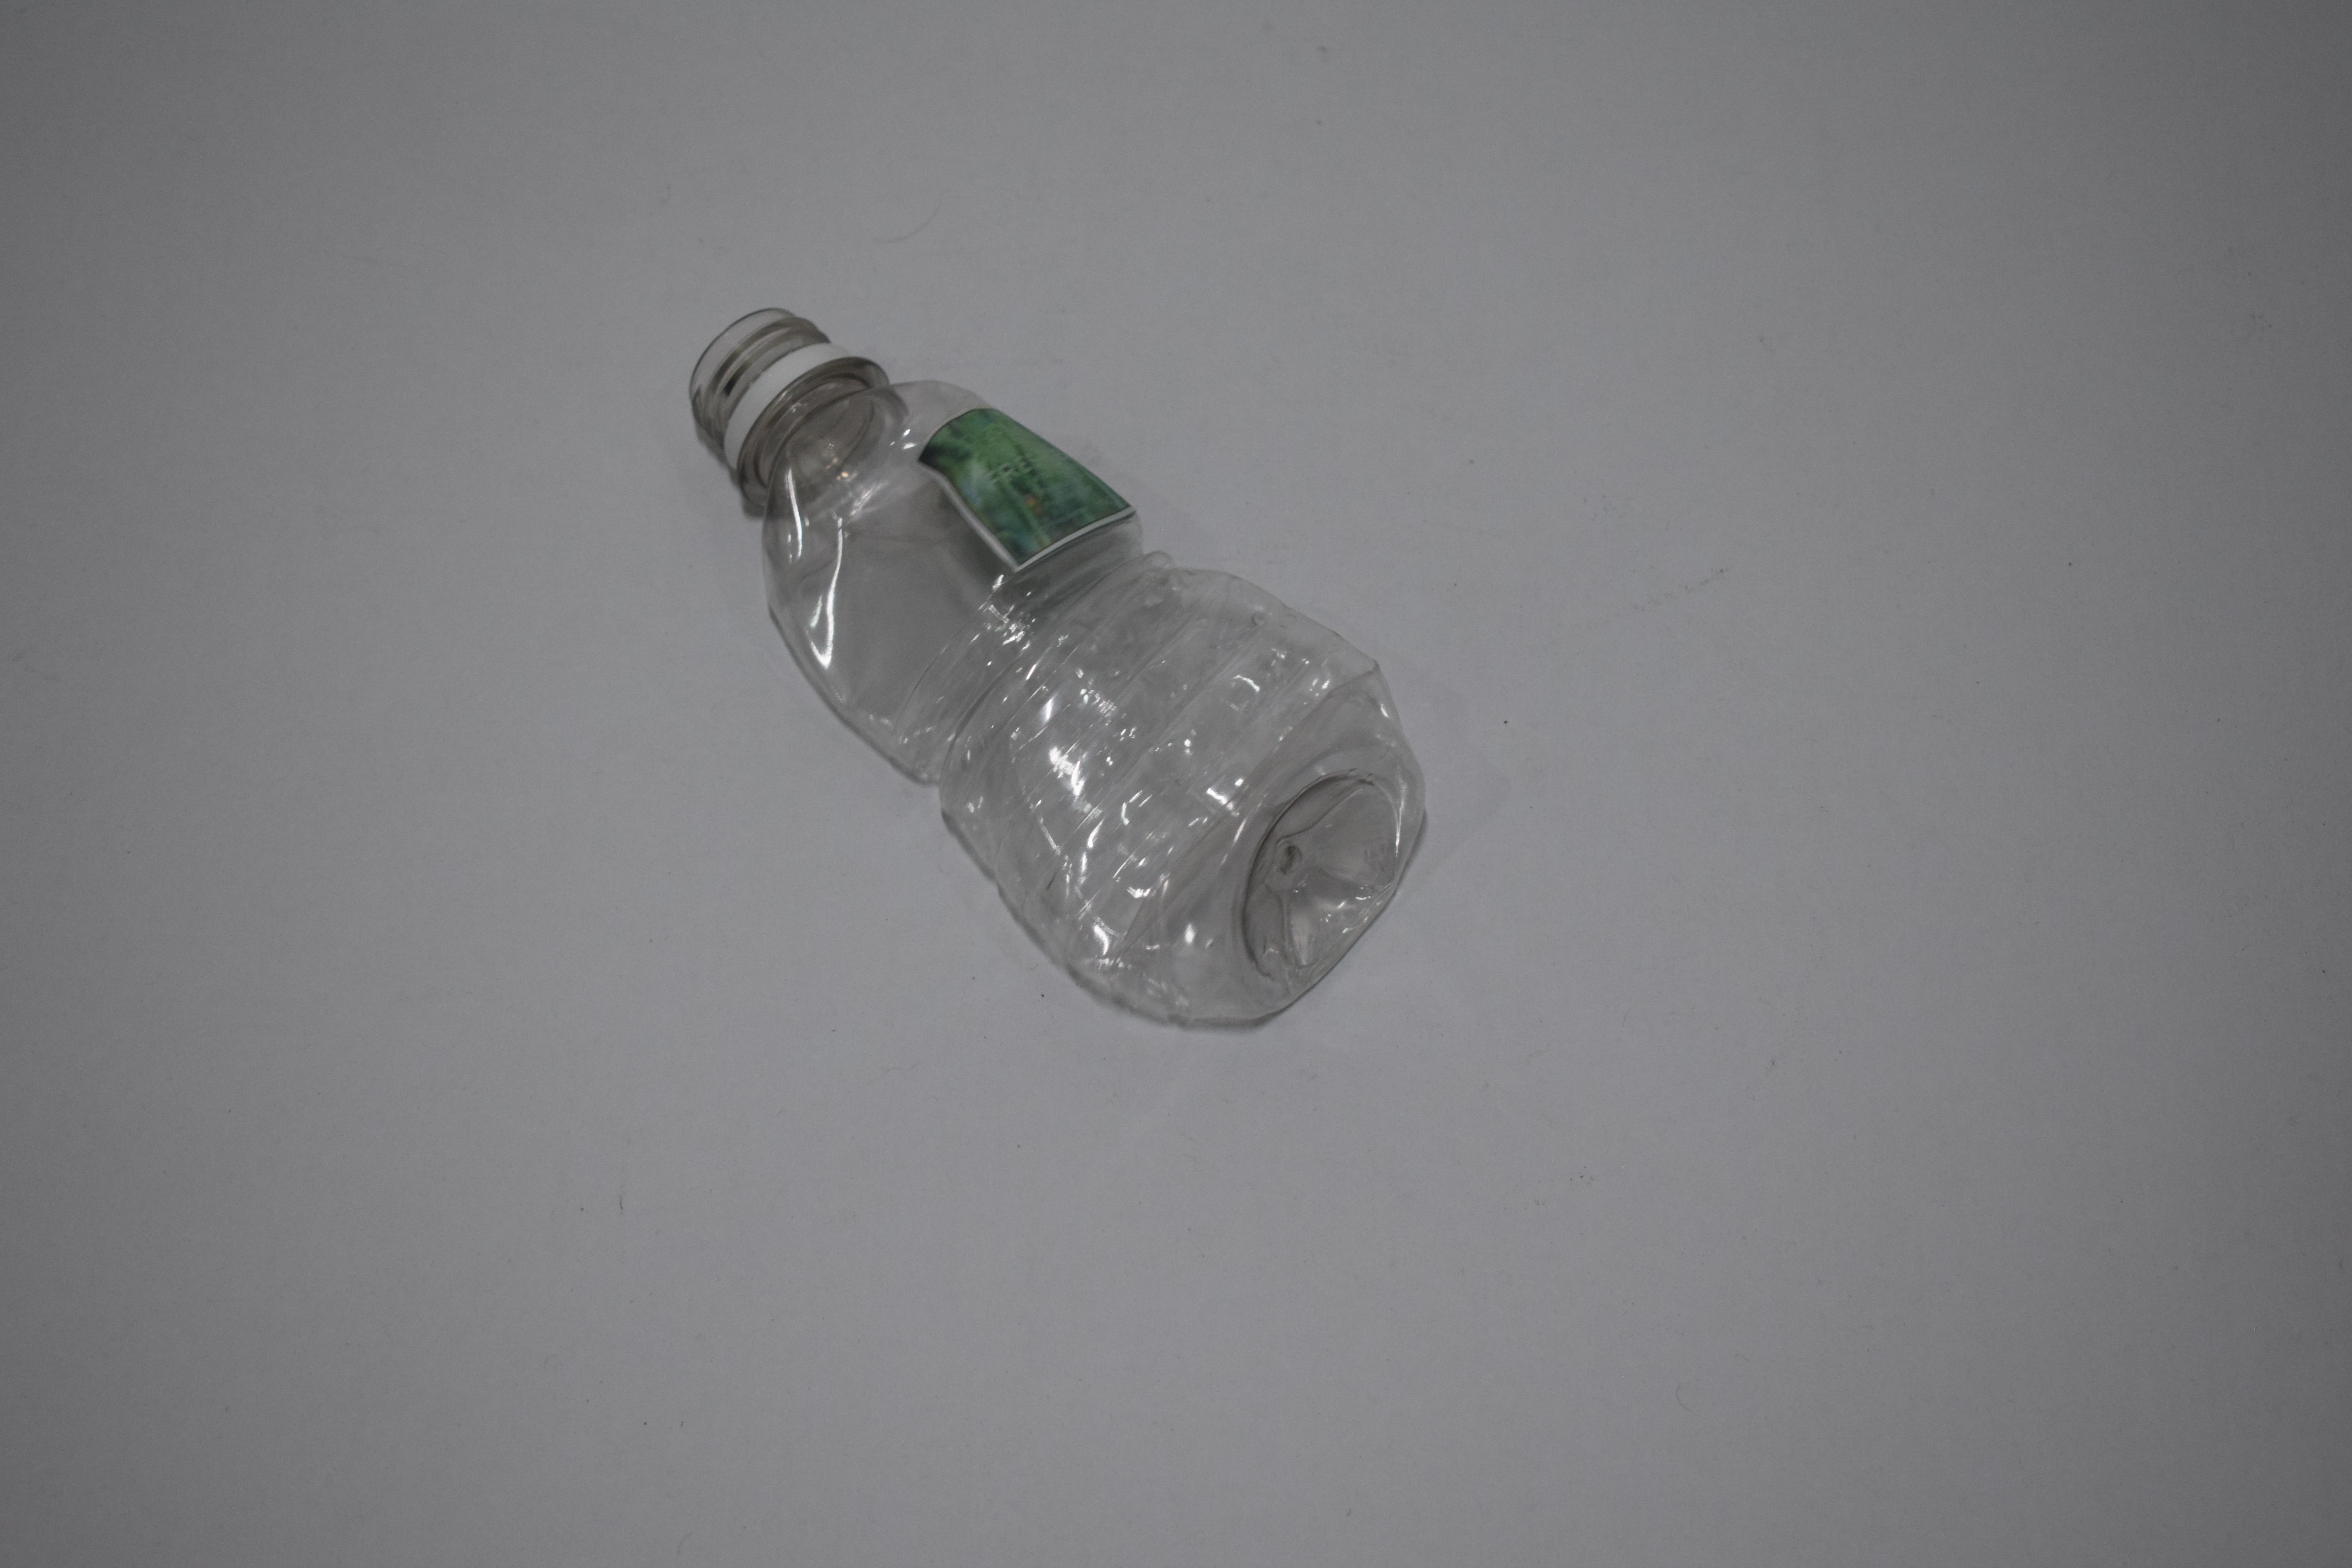bottle: (565, 301, 1321, 1038)
